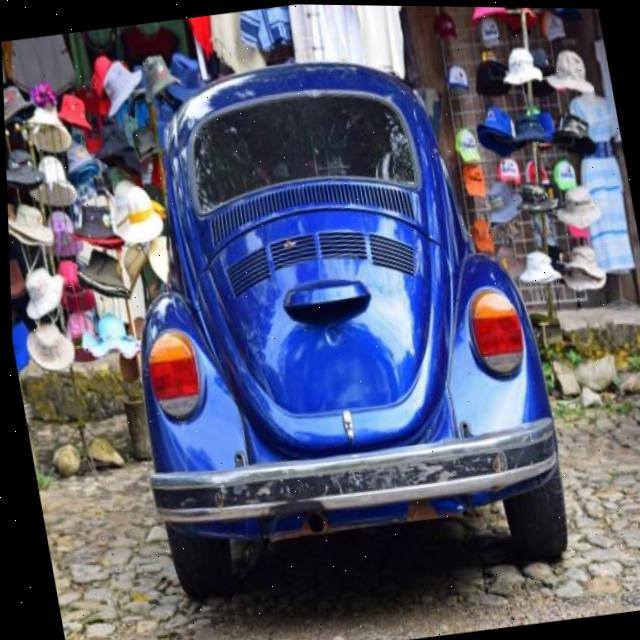vehicle: (90, 48, 582, 603)
